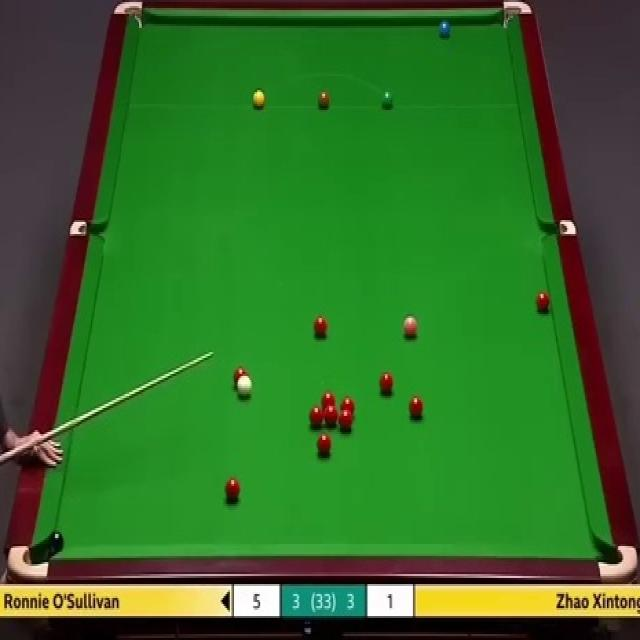pocket: (597, 543, 639, 585), (6, 542, 49, 578), (112, 0, 146, 31), (500, 0, 532, 32), (70, 221, 106, 237), (541, 220, 576, 235)
